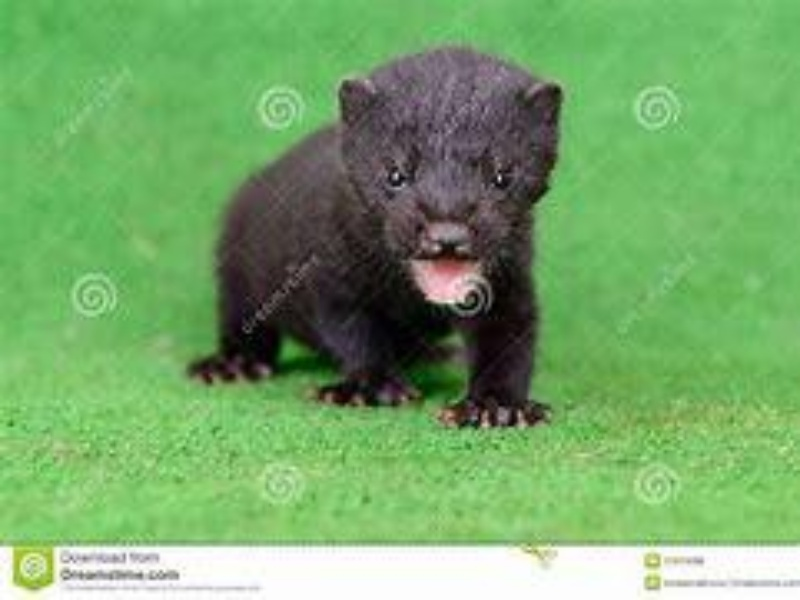minkish: (179, 43, 575, 431)
